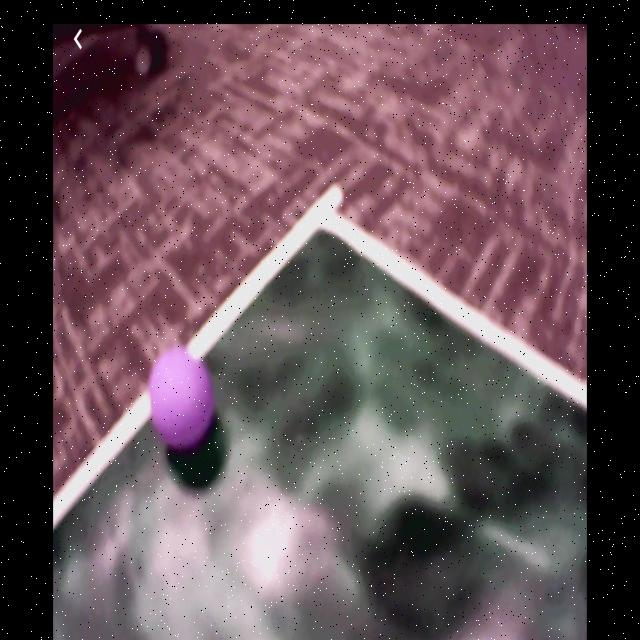ball: (150, 350, 217, 448)
